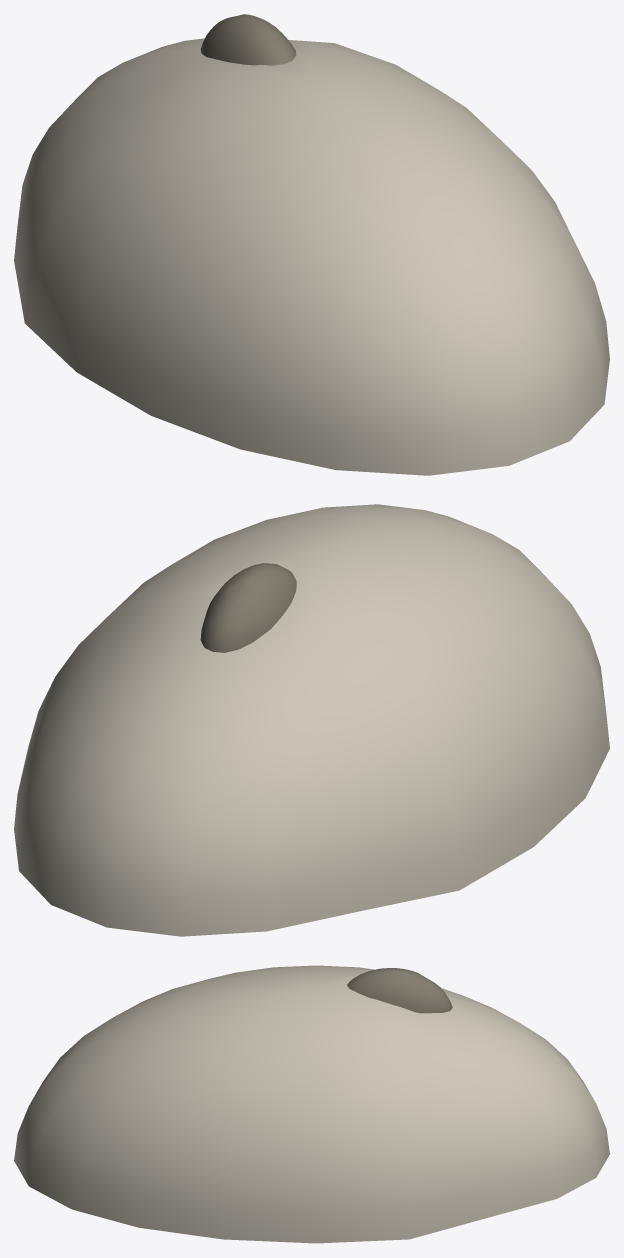
Rendered from Mouse.fbx.
3 renders of one model, top to bottom at view 1: azimuth 30°, elevation 25°; view 2: azimuth 150°, elevation 25°; view 3: azimuth 270°, elevation 25°, orthographic. The views are drawn at different scales.
Parts seen in each view (by area): view 1: pSphere4; view 2: pSphere4; view 3: pSphere4.
Boxes of the visible parts, x1,y1,x2,y2 form: pSphere4: (14, 14, 609, 475); pSphere4: (14, 504, 609, 936); pSphere4: (14, 965, 609, 1243).
Bounding box in the file's own units: 0.5 × 0.2694 × 0.7622.
Materials: 1 (1 with a texture image).
